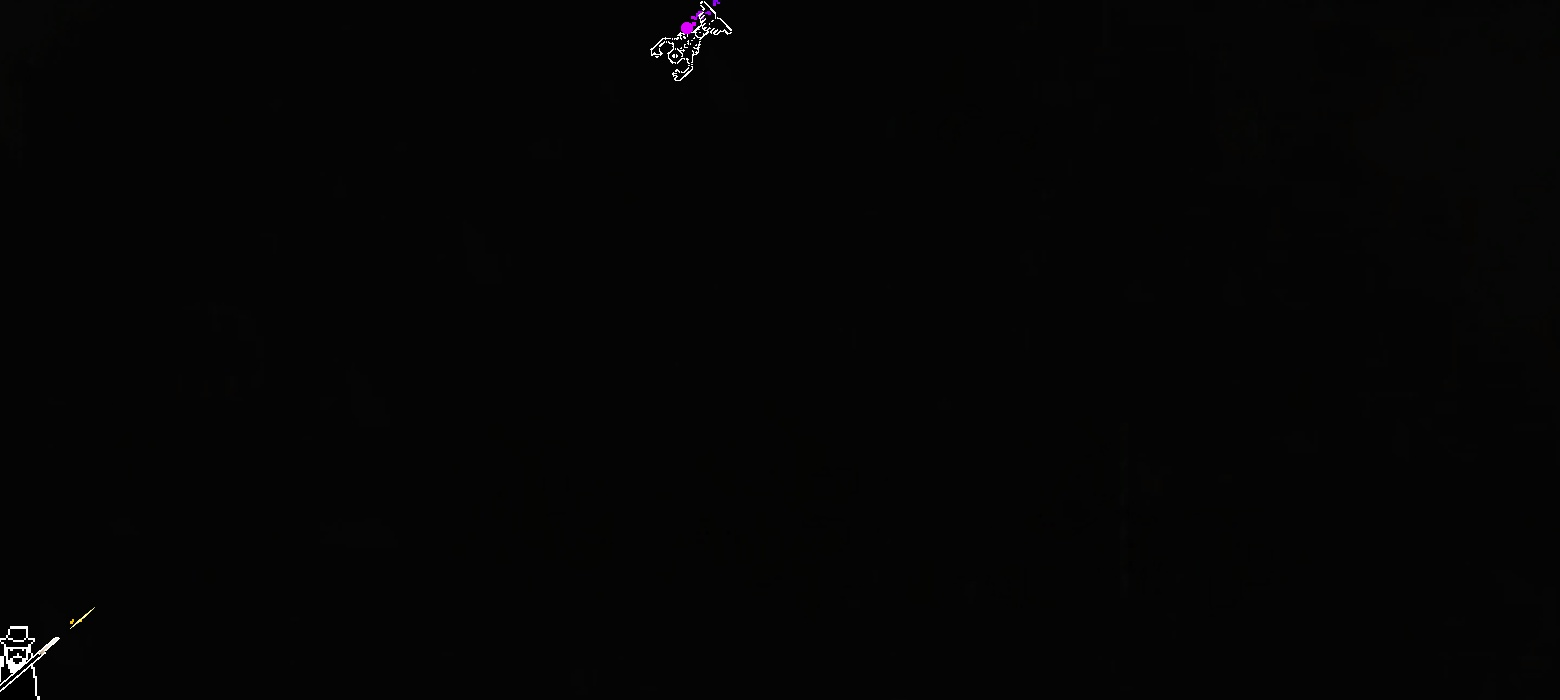enemy: (649, 1, 733, 82)
